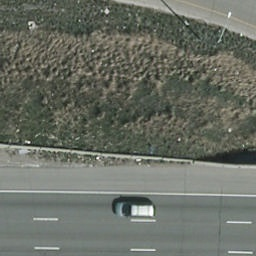car: (114, 201, 156, 218)
